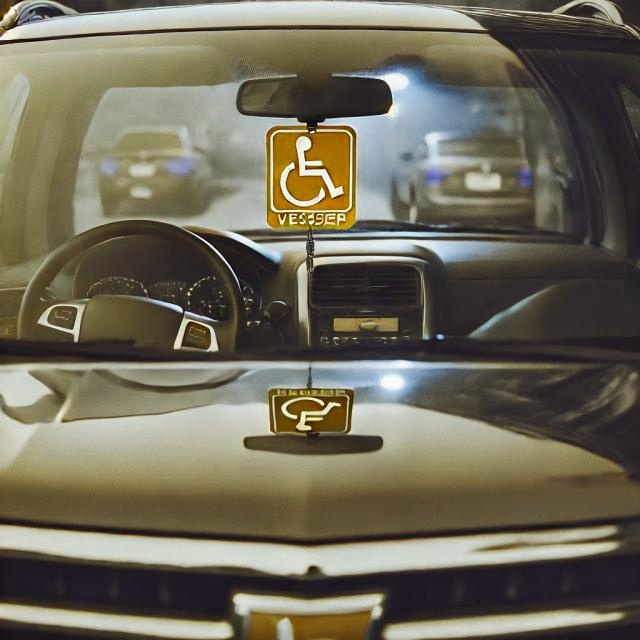ISA: (280, 134, 346, 208), (278, 394, 348, 433)
